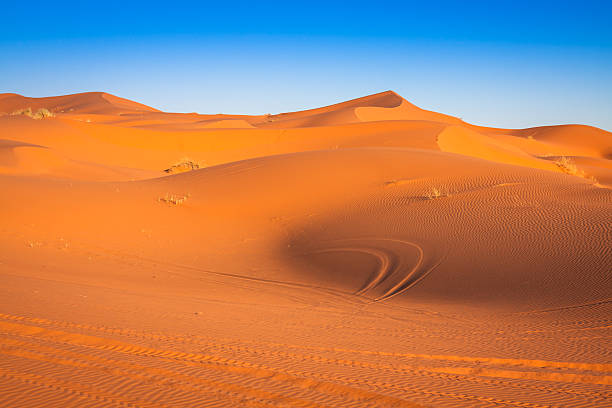vehicle_track: (0, 315, 609, 402), (309, 237, 442, 301)
